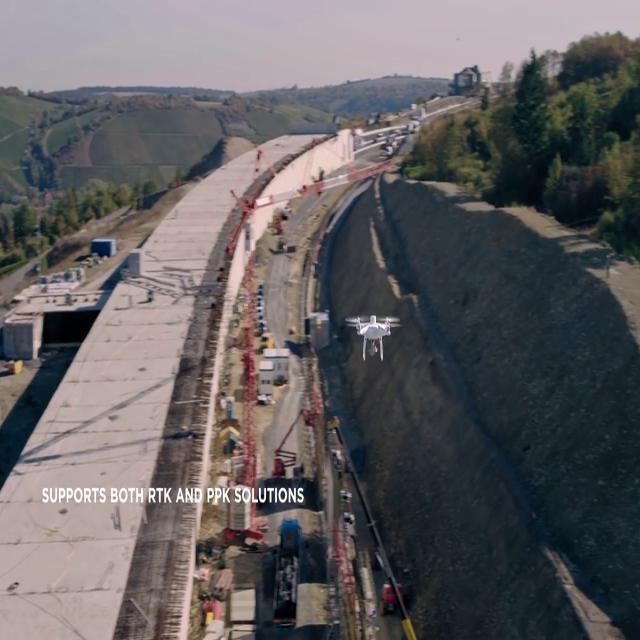drone: (343, 309, 402, 363)
